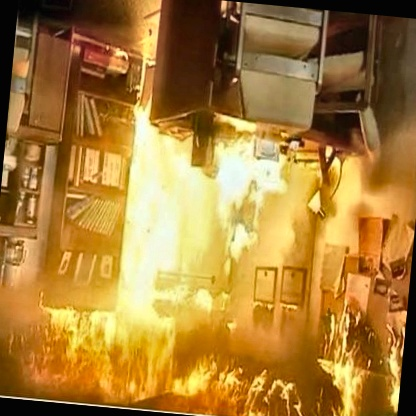fire: (0, 140, 416, 416)
